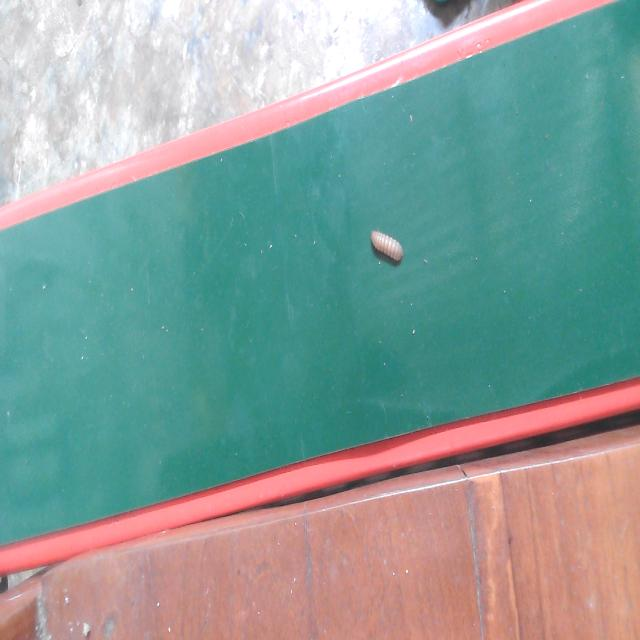Maggot: (368, 231, 405, 267)
